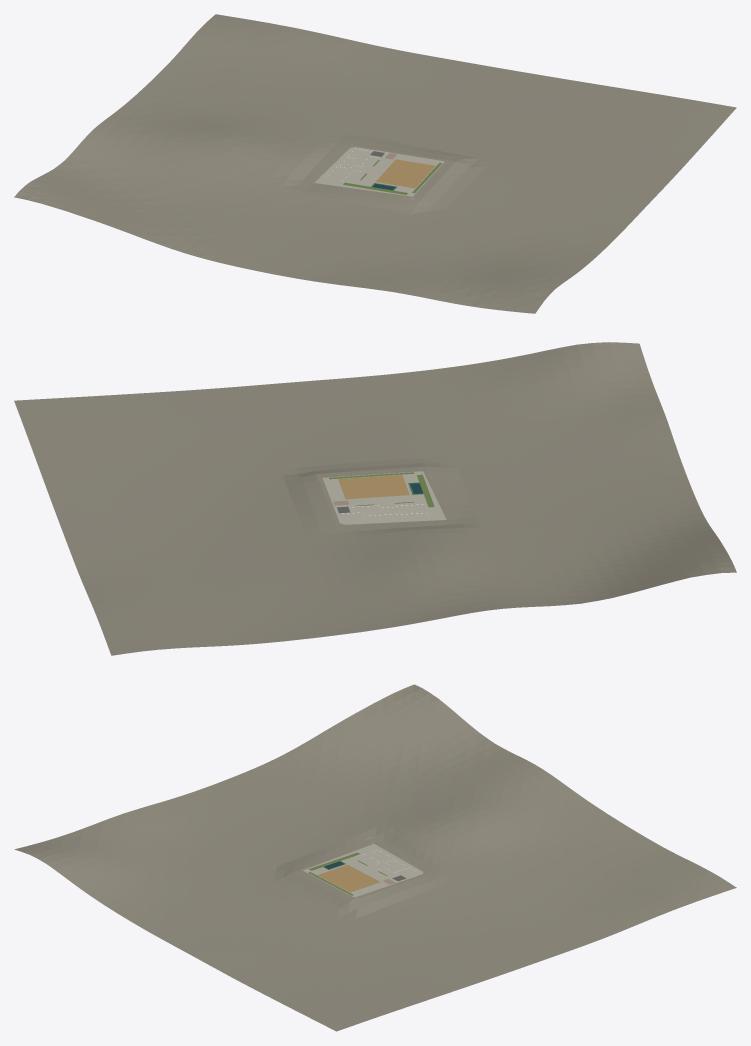
The picture shows the model from 3 angles, top to bottom: view 1: azimuth 30°, elevation 25°; view 2: azimuth 150°, elevation 25°; view 3: azimuth 270°, elevation 25°; orthographic projection. The views are drawn at different scales.
Visible parts, largest first — view 1: ground_context-estimated, surface_school-paved-walk, surface_sports-field; view 2: ground_context-estimated, surface_school-paved-walk, surface_sports-field, surface_main-forecourt; view 3: ground_context-estimated, surface_school-paved-walk, surface_sports-field.
Part boxes in pixels (left/top/right/bottom): ground_context-estimated: left=14, top=14, right=736, bottom=313; surface_school-paved-walk: left=314, top=147, right=444, bottom=196; surface_sports-field: left=375, top=159, right=435, bottom=188; ground_context-estimated: left=14, top=342, right=736, bottom=655; surface_school-paved-walk: left=322, top=471, right=446, bottom=524; surface_sports-field: left=338, top=475, right=409, bottom=499; surface_main-forecourt: left=348, top=495, right=424, bottom=506; ground_context-estimated: left=14, top=684, right=736, bottom=1031; surface_school-paved-walk: left=303, top=844, right=423, bottom=897; surface_sports-field: left=317, top=865, right=380, bottom=892.
Size of the model in its own units: 1012 by 66.47 by 1012.
8 materials, 8 textured.
